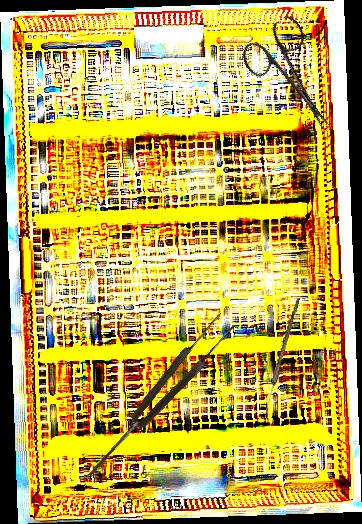Iris Scissors: (235, 12, 355, 145)
Surgical Spoon: (262, 296, 301, 416)
Tissue Forceps: (78, 310, 239, 484)
